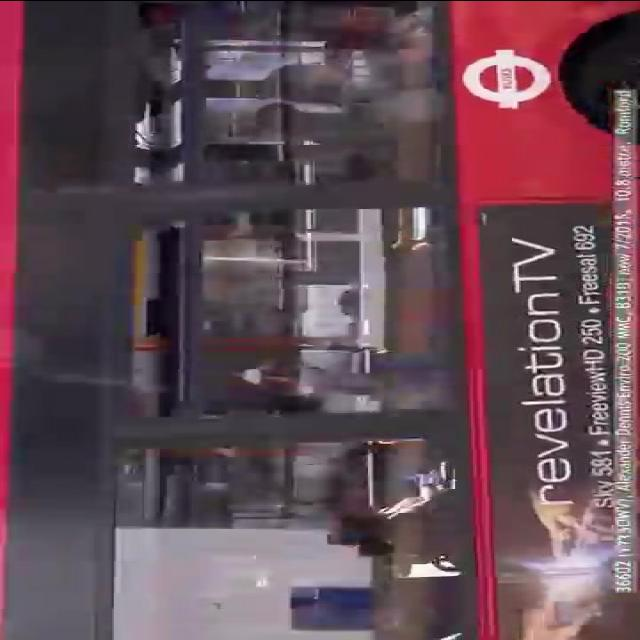bus: (8, 1, 636, 640)
